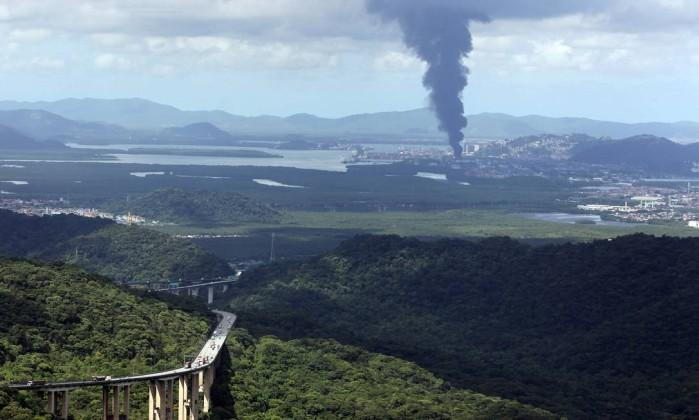smoke: (427, 17, 467, 112)
